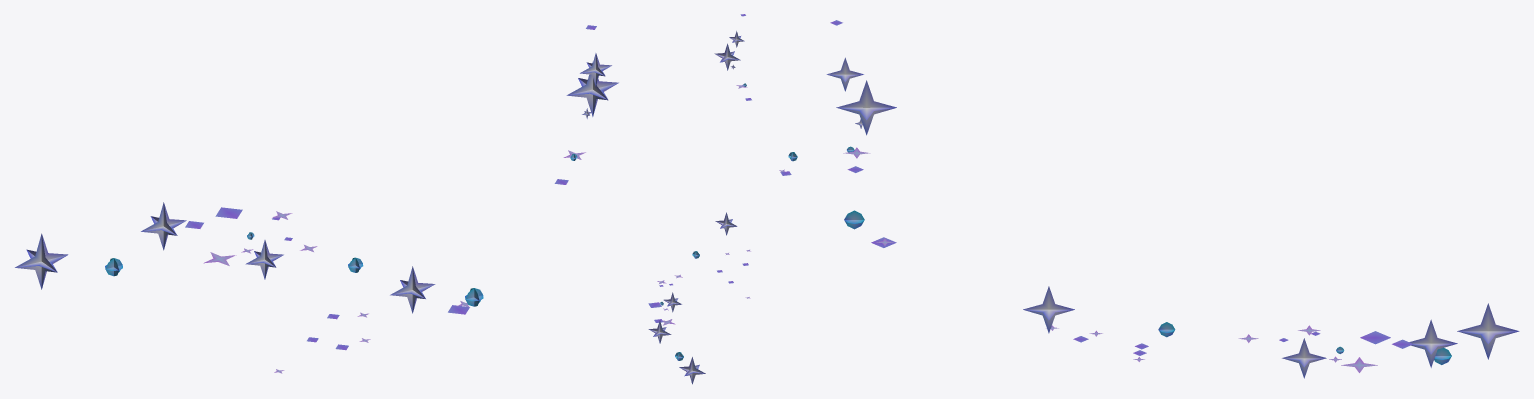
The model's file is space-stars-star-cluster_v6.glb.
3 views of the same model, side by side, from view 1: azimuth 30°, elevation 25°; view 2: azimuth 150°, elevation 25°; view 3: azimuth 270°, elevation 25° (orthographic). The views are drawn at different scales.
Visible parts, largest first — view 1: Star Cluster_v6; view 2: Star Cluster_v6; view 3: Star Cluster_v6.
Boxes of the visible parts, left/top/right/bottom form: Star Cluster_v6: left=15, top=25, right=618, bottom=373; Star Cluster_v6: left=648, top=14, right=797, bottom=384; Star Cluster_v6: left=826, top=20, right=1519, bottom=378.
Size of the model in its own units: 0.245 by 0.355 by 0.5.
